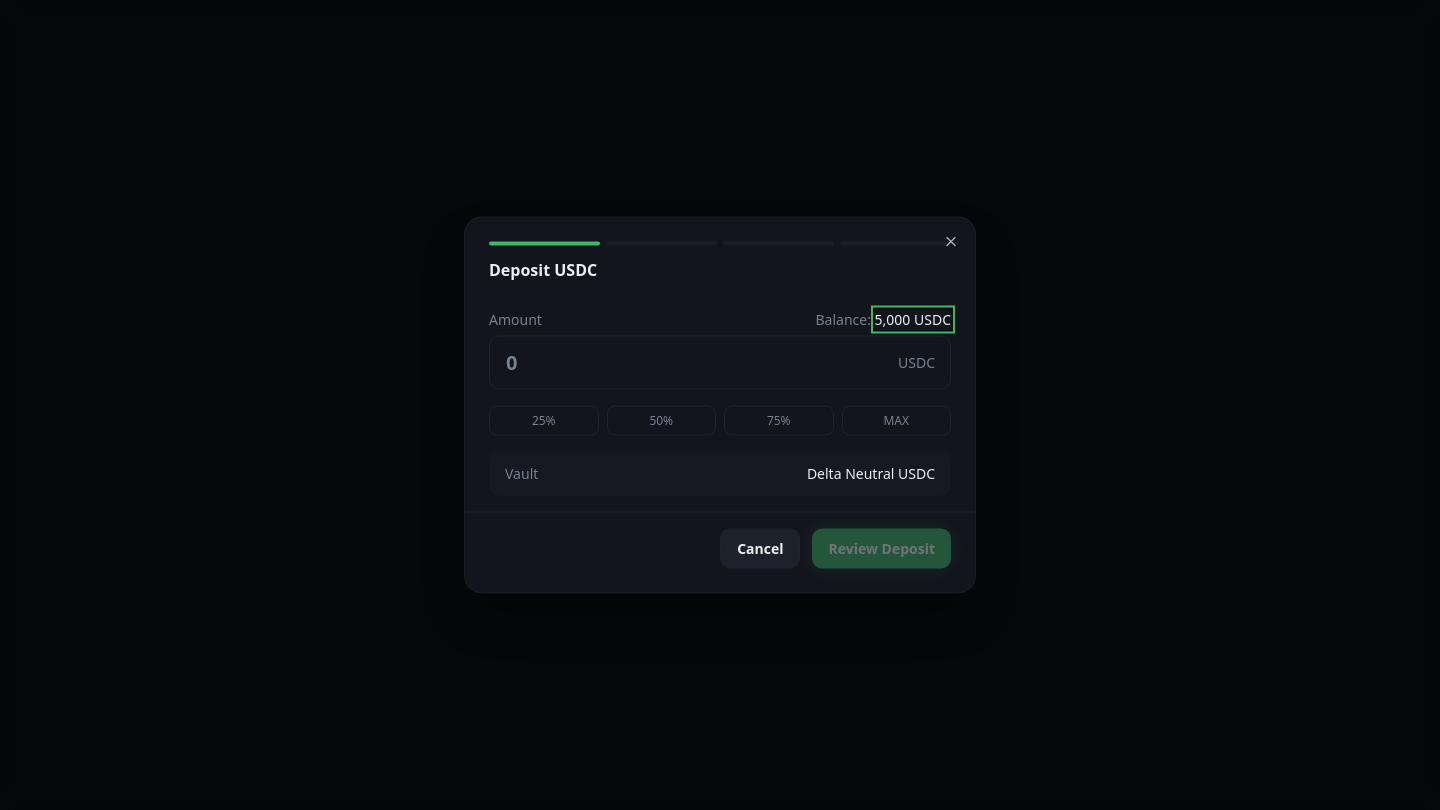
Scenario: DepositModal › advances to review step on valid amount
Step 1. Type "1000" into the number field labelled "Amount" → (720, 362), box top-left (489, 336), bottom-right (951, 390)
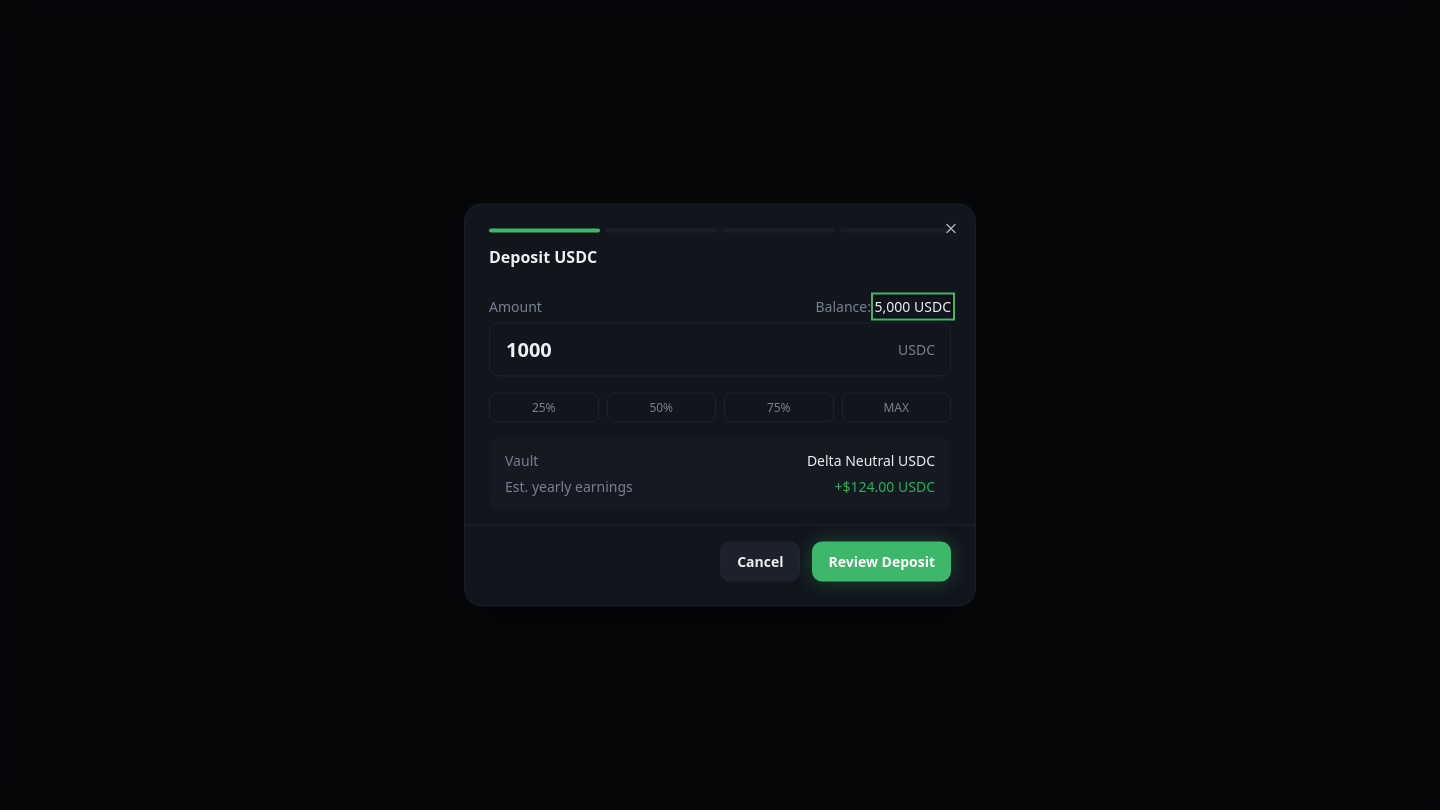
Step 2. Click the button "Review Deposit" → (882, 562), box top-left (812, 542), bottom-right (951, 582)
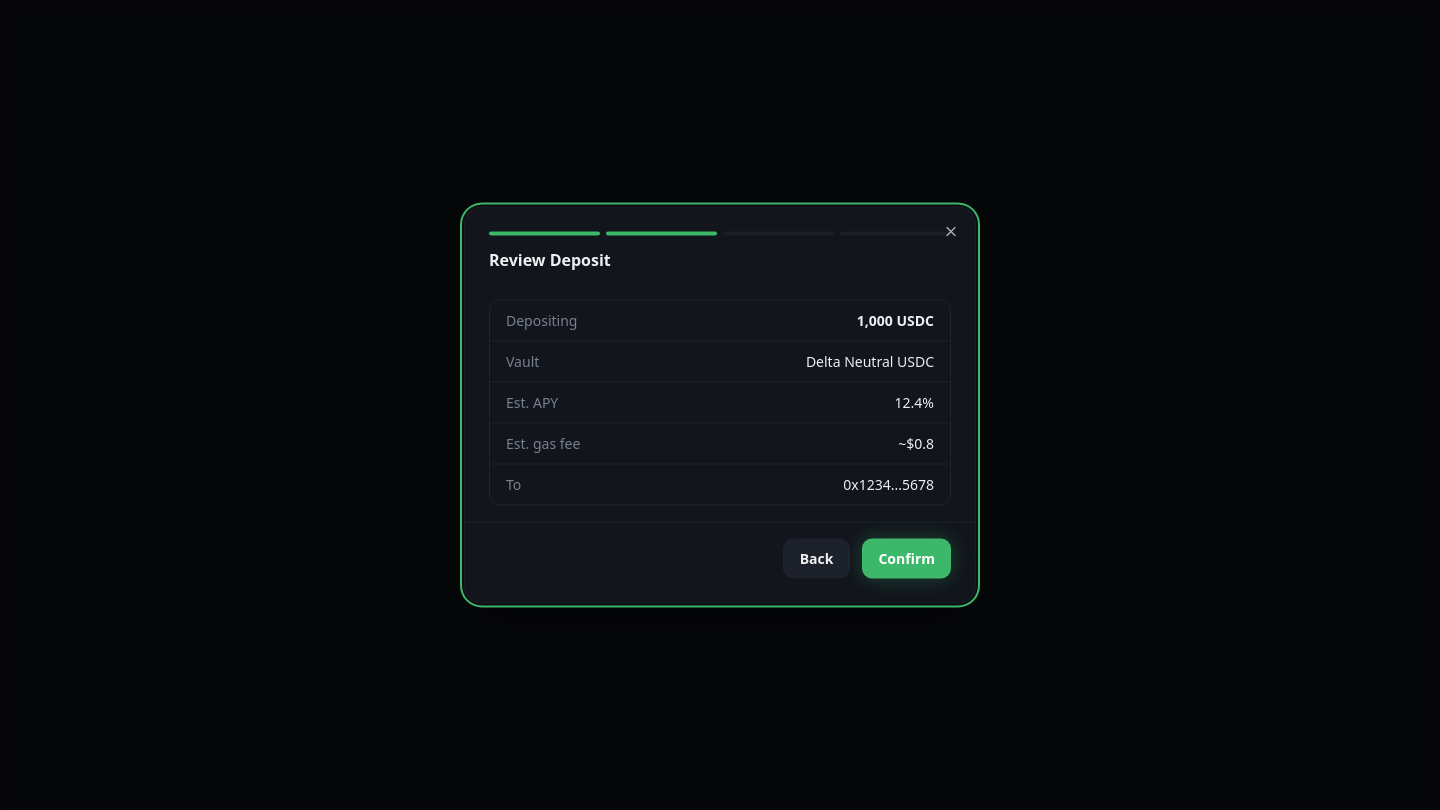
expect the heading "Review Deposit" is shown: met, box top-left (489, 248), bottom-right (611, 270)
expect the text "1,000 USDC" is shown: met, box top-left (857, 310), bottom-right (934, 330)
